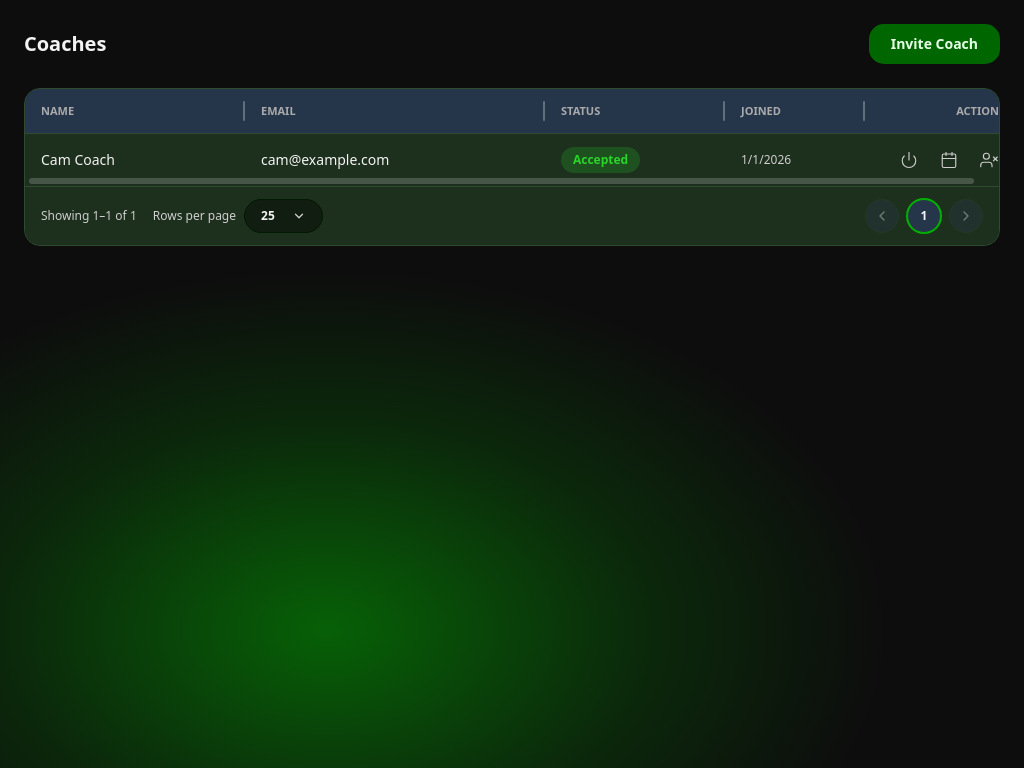
Test: CoachesPage › removes a coach after confirmation (DELETE /coaches/:id) and refreshes the roster
Check: the row "Cam Coach cam@example.com Accepted 1/1/2026" is shown, box [25,134,999,186]
Click the button named "Remove Cam Coach": (989, 160) [973,144,1005,176]
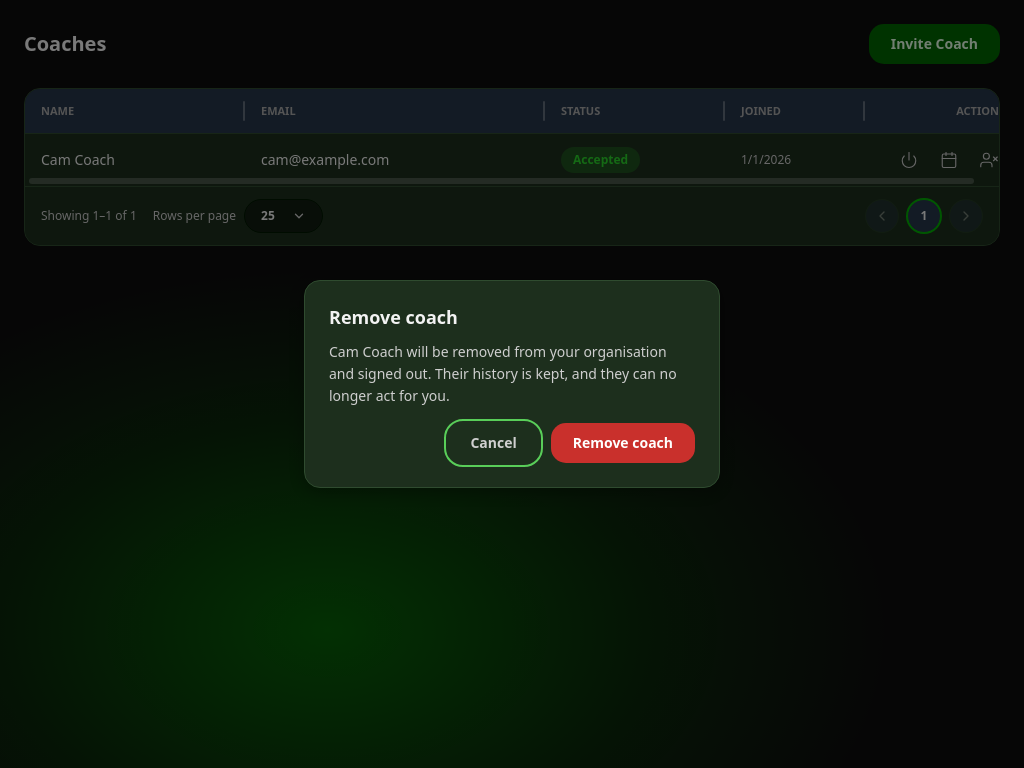
Check: the dialog shows "removed from your organisation", box [329,342,677,405]
Click the button "Remove coach": (623, 443) [551,423,695,463]
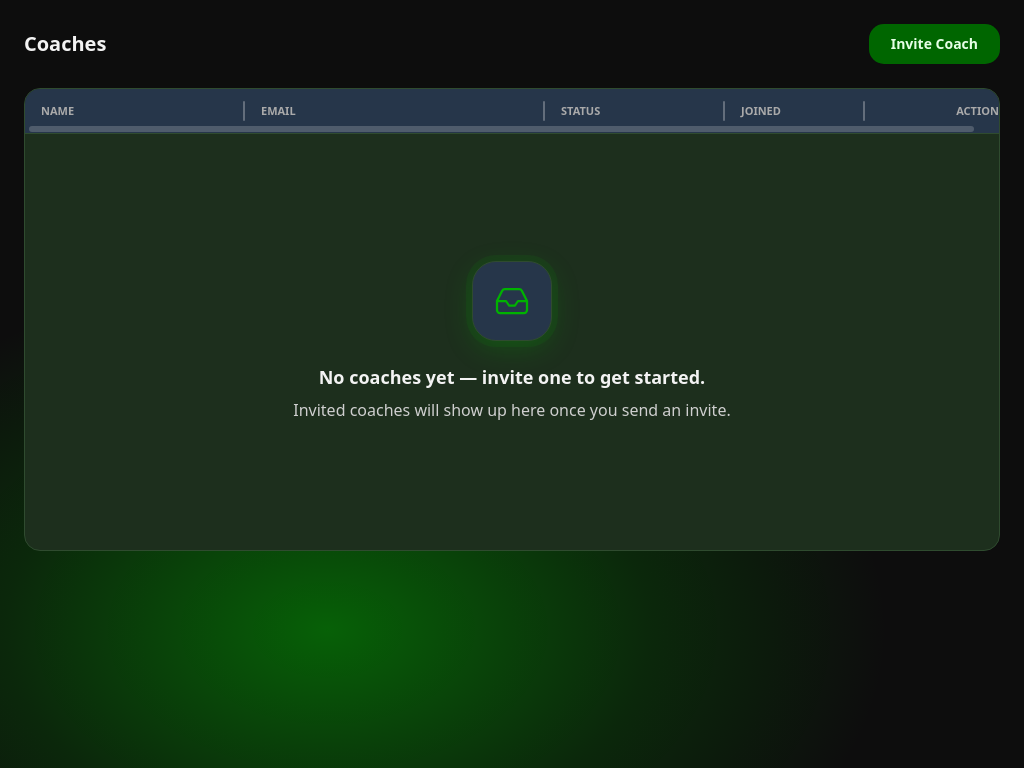
Check: the dialog is gone
Check: the text "Cam Coach" is gone
